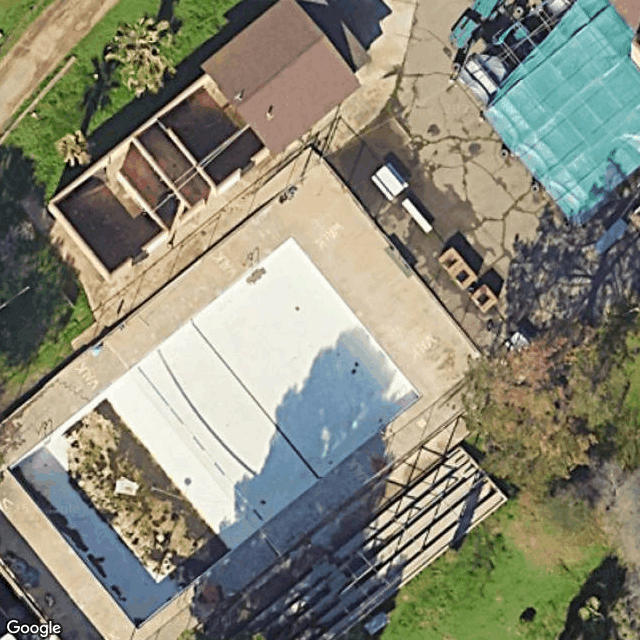palm: (97, 8, 186, 104), (50, 122, 103, 170)
